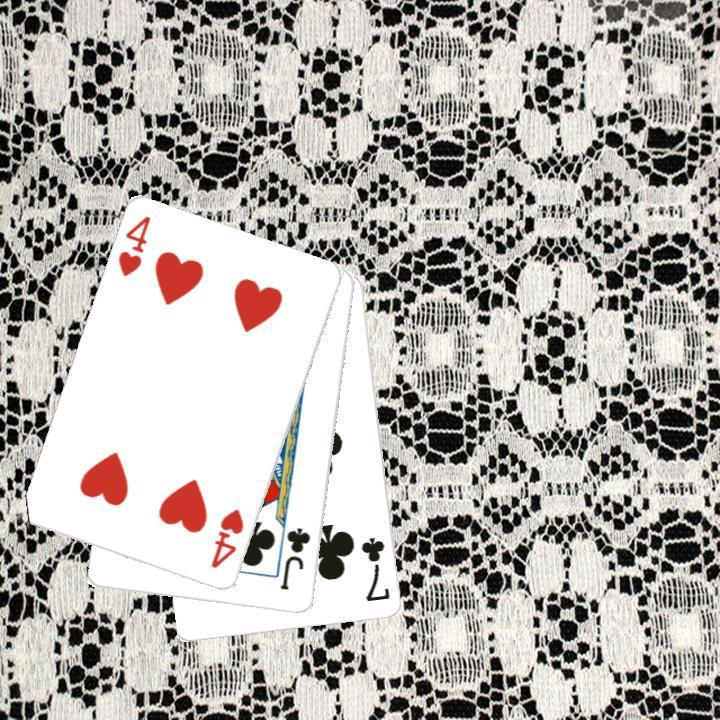4: (206, 505, 246, 571), (114, 212, 153, 279)
7: (357, 533, 393, 604)
J: (276, 524, 313, 593)
